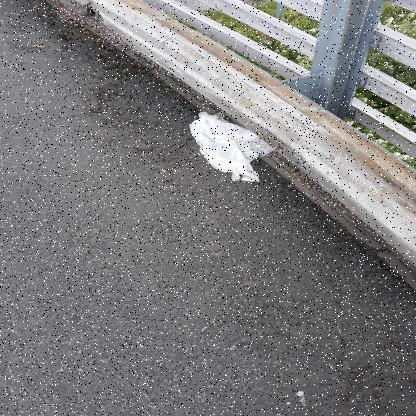metal: (111, 140, 183, 229)
